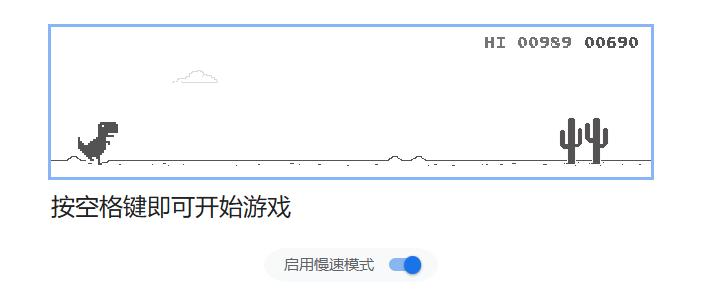cactus: (558, 116, 609, 166)
dino: (75, 120, 119, 165)
